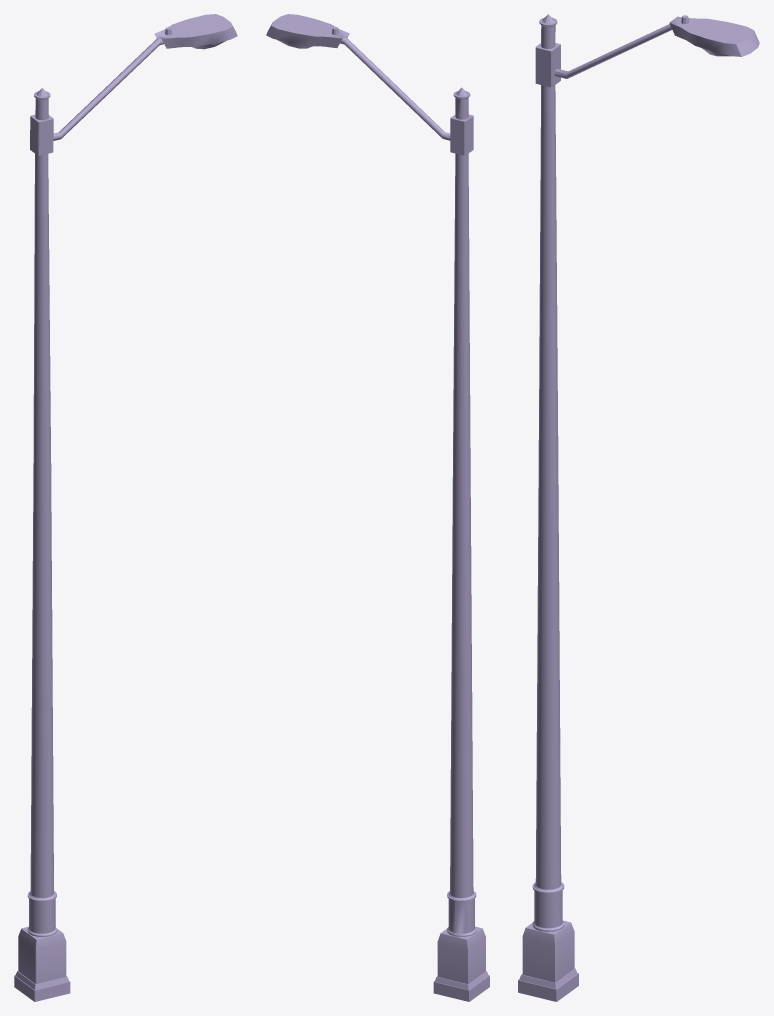
File: lamppost03a_on.fbx
3 renders of one model, left to right at view 1: azimuth 30°, elevation 25°; view 2: azimuth 150°, elevation 25°; view 3: azimuth 330°, elevation 25°, orthographic. The views are drawn at different scales.
Parts seen in each view (by area): view 1: lamp_on1; view 2: lamp_on1; view 3: lamp_on1.
Part boxes in pixels (<box>): lamp_on1: <box>14,14,237,1001</box>; lamp_on1: <box>266,14,489,1001</box>; lamp_on1: <box>518,14,759,1001</box>.
Bounding box in the file's own units: 8096 × 34599 × 1400.
